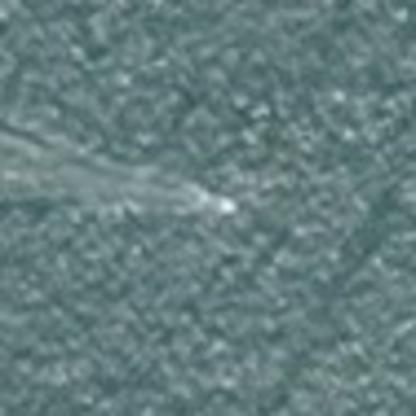ship: (209, 188, 244, 221)
